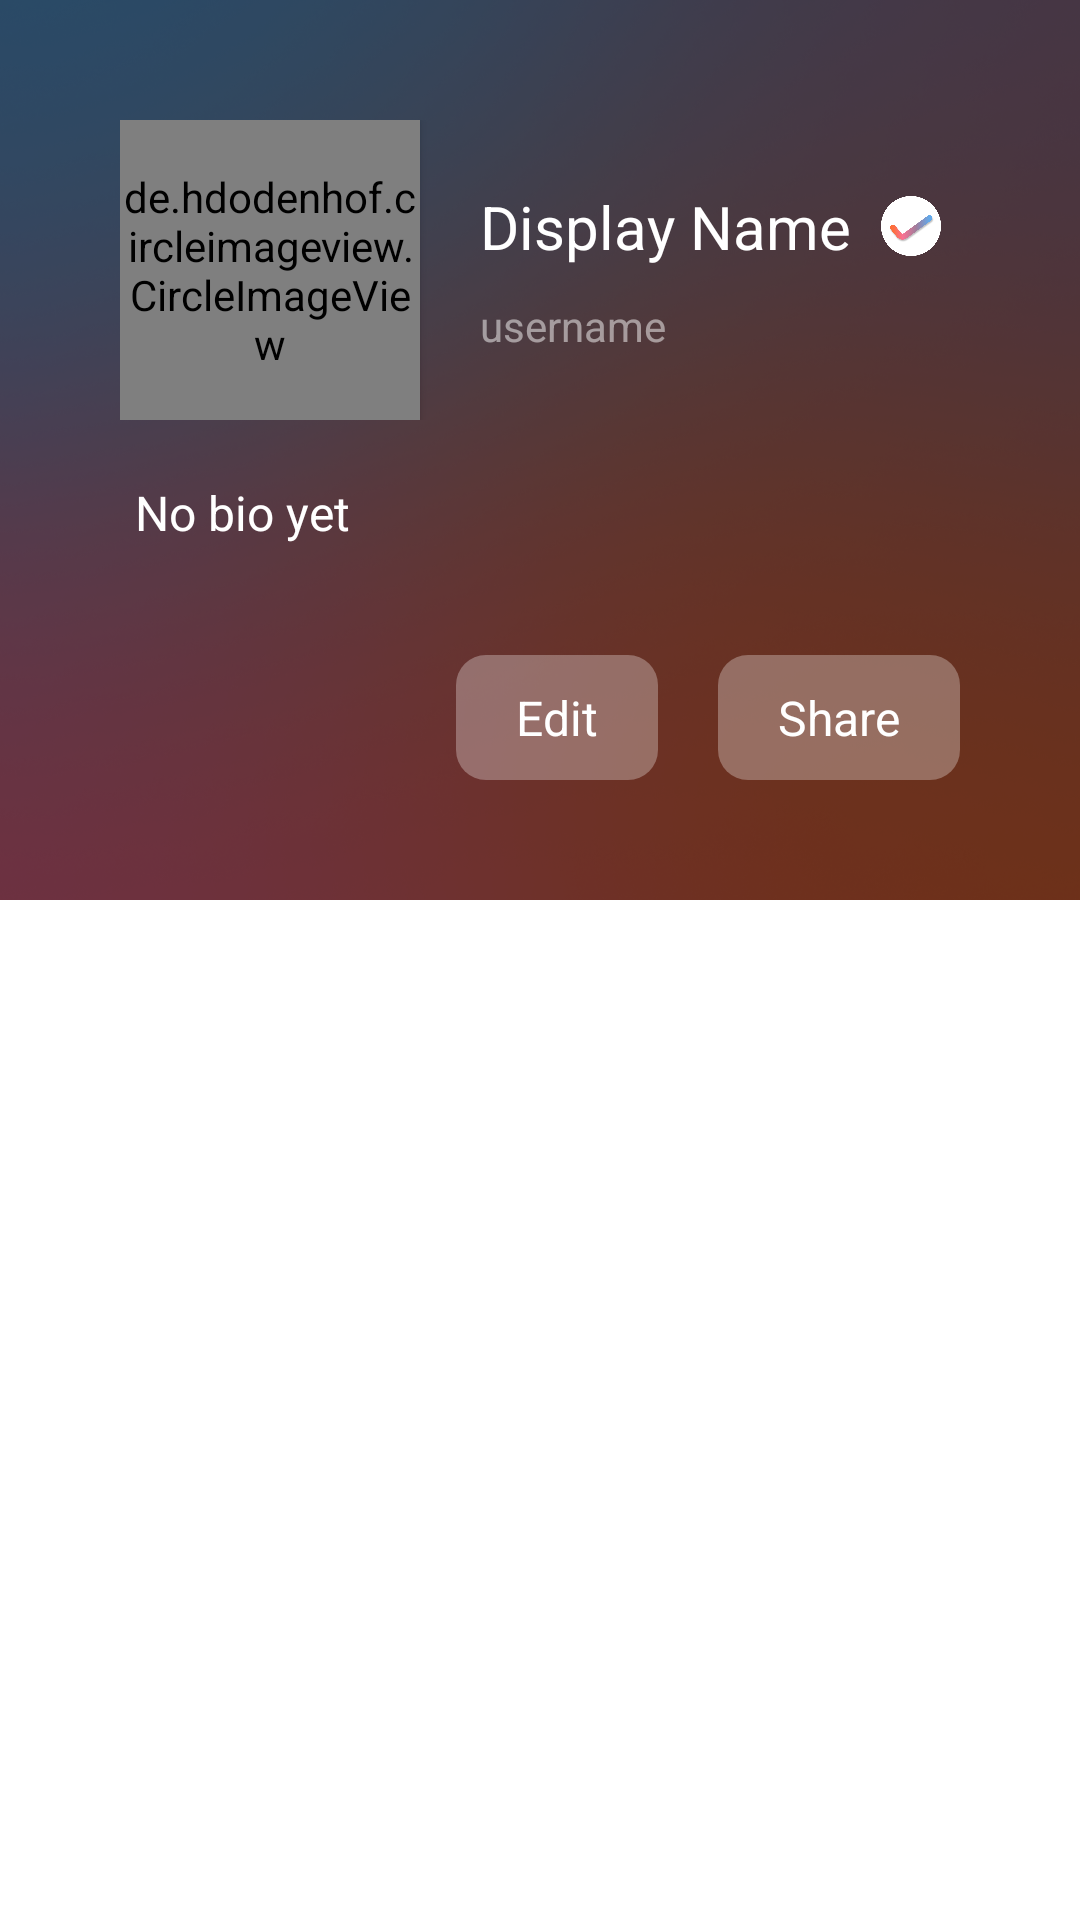

Screen size 1080x1920. Icon name, then its center in pixels as (x,y):
user is verified: (911,226)
